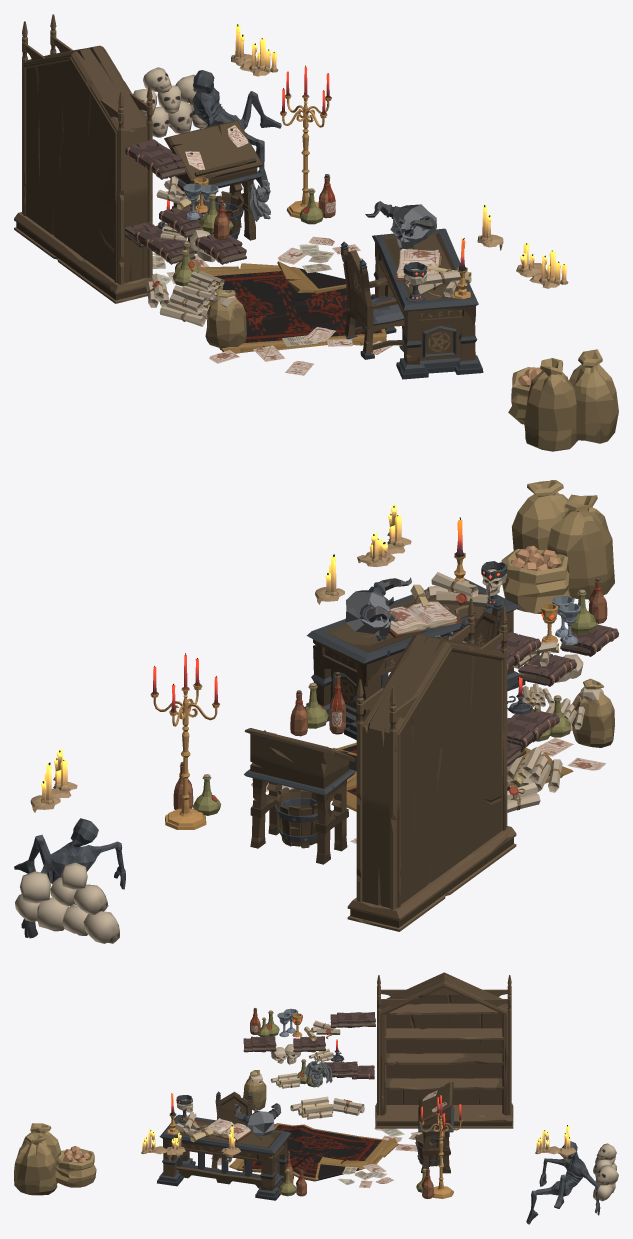
File: crypt_study.gltf
The picture shows the model from 3 angles, top to bottom: view 1: azimuth 30°, elevation 25°; view 2: azimuth 150°, elevation 25°; view 3: azimuth 270°, elevation 25°; orthographic projection. The views are drawn at different scales.
Visible parts, largest first — view 1: crypt_study; view 2: crypt_study; view 3: crypt_study.
Part boxes in pixels (x1,y1,x2,y2): crypt_study: (14, 14, 618, 451); crypt_study: (14, 480, 618, 943); crypt_study: (14, 972, 618, 1224).
Size of what is drawn, in the model's own units: 3.8 by 2.97 by 9.74.
1 material, 1 textured.
